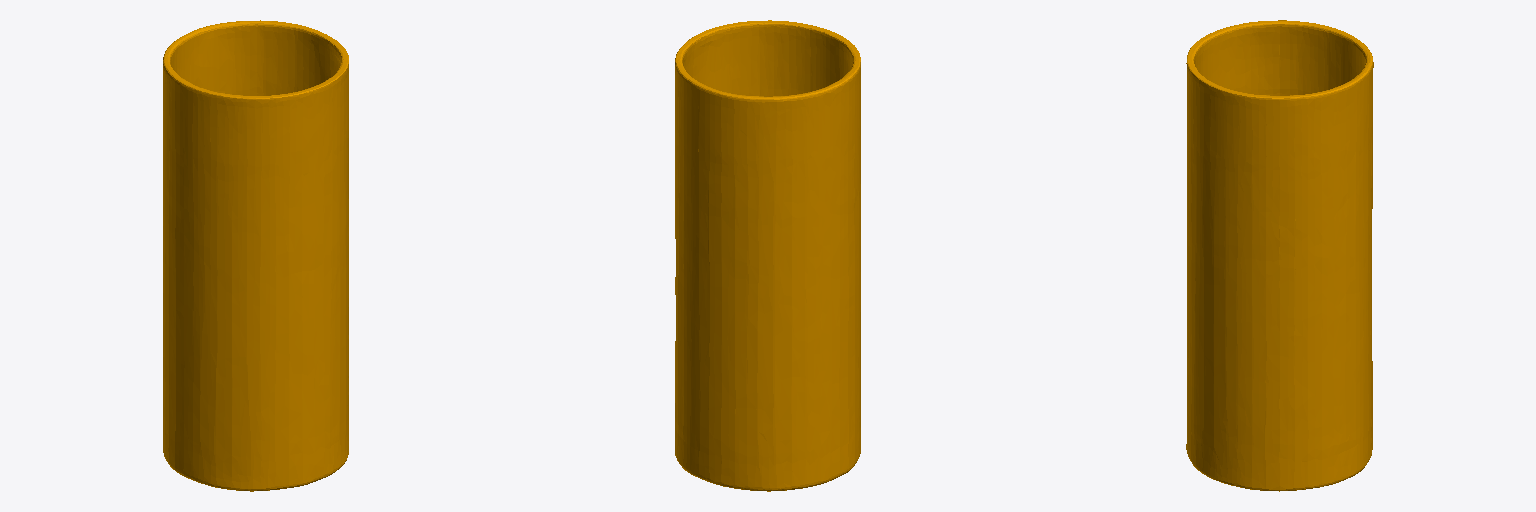
The robot description file, URDF, robot "sample":
<?xml version="1.0" ?>
<robot name="sample">
   <link name="sample">
      <visual>
         <origin xyz="0 0 0" rpy="1.5708 0.0 0.0"/>
         <geometry>
            <mesh filename="mesh/sample.obj" scale="1.0 1.0 1.0"/>
         </geometry>
      </visual>
      <collision>
         <origin xyz="0 0 0" rpy="1.5708 0.0 0.0"/>
         <geometry>
            <mesh filename="mesh/sample_collision.obj" scale="1.0 1.0 1.0"/>
         </geometry>
         <gazebo>
            <mu1>0.60</mu1>
            <mu2>0.50</mu2>
         </gazebo>
      </collision>
      <inertial>
         <mass value="0.5500"/>
         <origin xyz="0 0 0"/>
         <inertia ixx="1.0" ixy="0.0" ixz="0.0" iyy="1.0" iyz="0.0" izz="1.0"/>
      </inertial>
      <extra_info>
         <scale>0.225000</scale>
         <version>v0.1.7</version>
         <category>bottle drink</category>
         <description>tall glass bottle with green liquid and ice cubes</description>
         <min_height>0.2</min_height>
         <max_height>0.25</max_height>
         <real_height>0.225</real_height>
         <min_mass>0.4</min_mass>
         <max_mass>0.7</max_mass>
         <color>green</color>
         <rgba>[0.0, 0.7, 0.0, 1.0]</rgba>
         <generate_time>20260526161452</generate_time>
         <gs_model>mesh/sample_gs.ply</gs_model>
      </extra_info>
   </link>
   <custom_data>
      <quality>
         <MeshGeoChecker>YES</MeshGeoChecker>
         <ImageSegChecker>NO, object is not centered and background is distorted with color artifacts.</ImageSegChecker>
         <ImageAestheticChecker>5.390121221542358</ImageAestheticChecker>
         <overall>NO</overall>
      </quality>
   </custom_data>
</robot>

--- Render facts (derived) ---
The picture shows the robot from 3 angles, left to right: view 1: azimuth 30°, elevation 25°; view 2: azimuth 150°, elevation 25°; view 3: azimuth 270°, elevation 25°; orthographic projection.
Model sample with 1 links and 0 joints (none), rooted at sample, posed every joint at zero.
Links seen in each view (by area): view 1: sample; view 2: sample; view 3: sample.
Boxes of the visible links, x1,y1,x2,y2 form: sample: [163, 20, 348, 491]; sample: [675, 20, 860, 491]; sample: [1186, 20, 1373, 491].
Bounding box of the posed robot: 0.0966 × 0.0969 × 0.225 m (x, y, z).
Meshes: 1 distinct files referenced, 1 mesh visuals loaded (1 OBJ).
